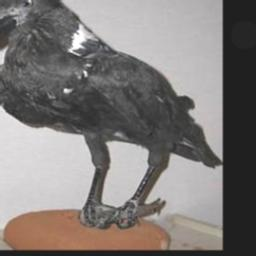Crow: (0, 0, 220, 230)
